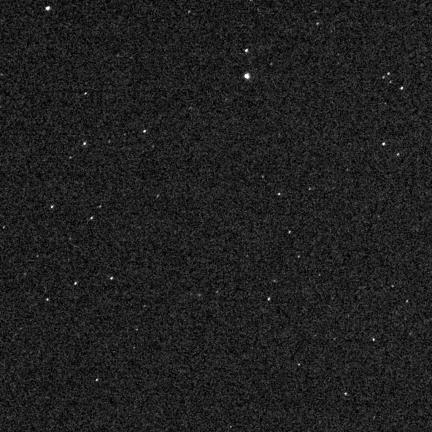blob: (245, 73, 250, 79), (245, 49, 249, 53), (46, 6, 50, 10), (382, 143, 386, 146), (400, 87, 404, 90)
